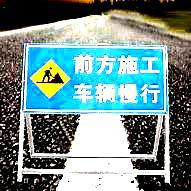sign: (22, 43, 168, 110)
